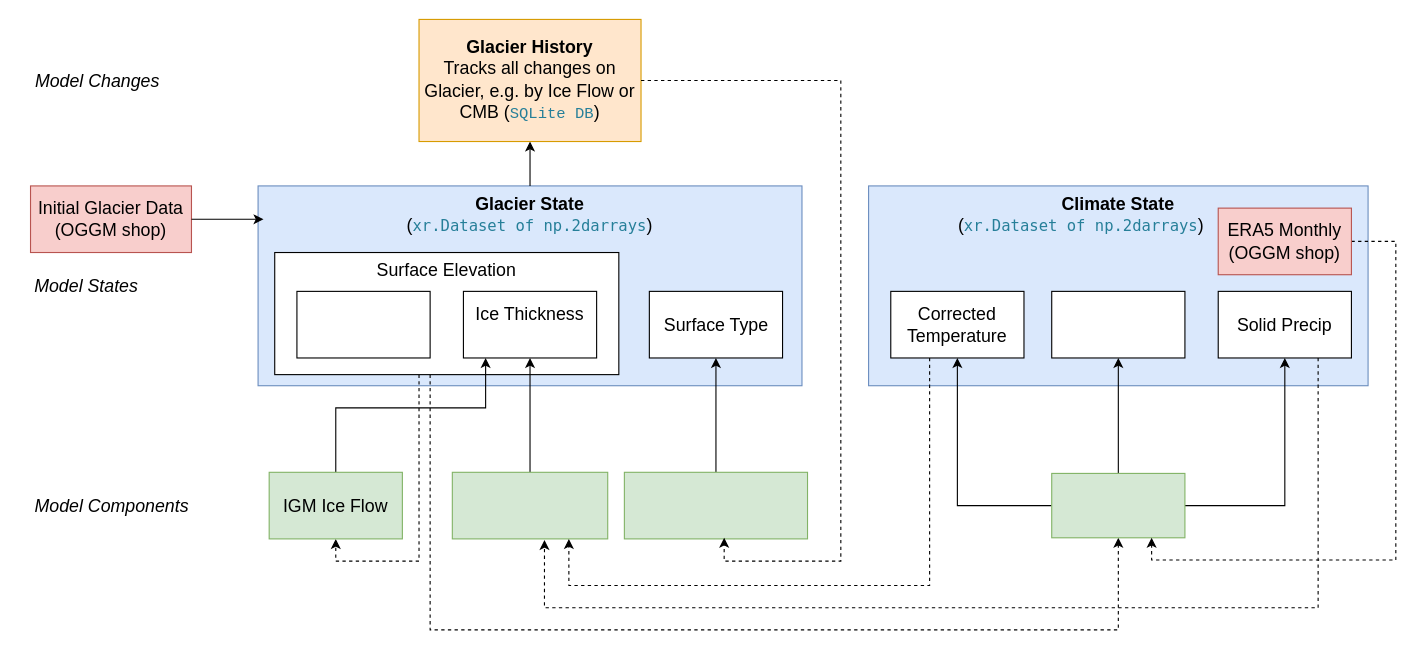
This 1424x658 diagram has some shape labels left out. The centre of each missing label's shape, as x and y in pixels:
"Bedrock Topo (constant)" belongs at [363,324].
"Climate Downscaling" belongs at [1118,505].
"Climatic Mass Balance" belongs at [529,505].
"Liquid Precip" belongs at [1118,324].
"SurfaceTypeUpdater" belongs at [715,505].
